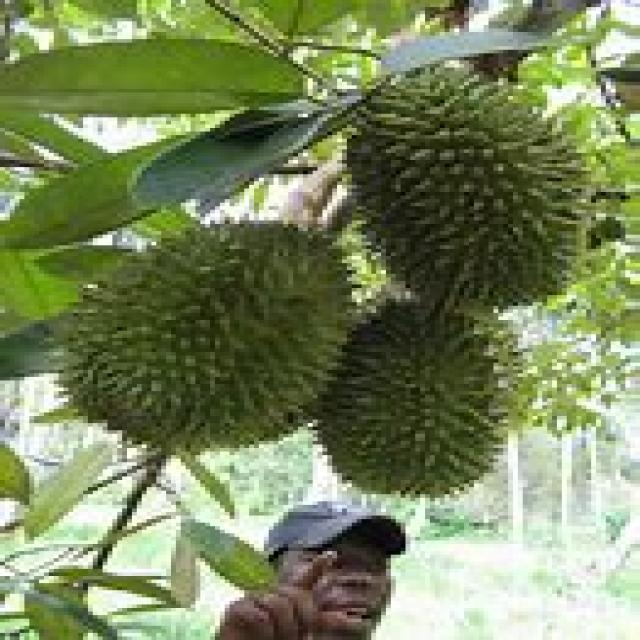UNRIPE: (57, 218, 351, 454), (346, 62, 579, 306), (316, 300, 509, 492)
